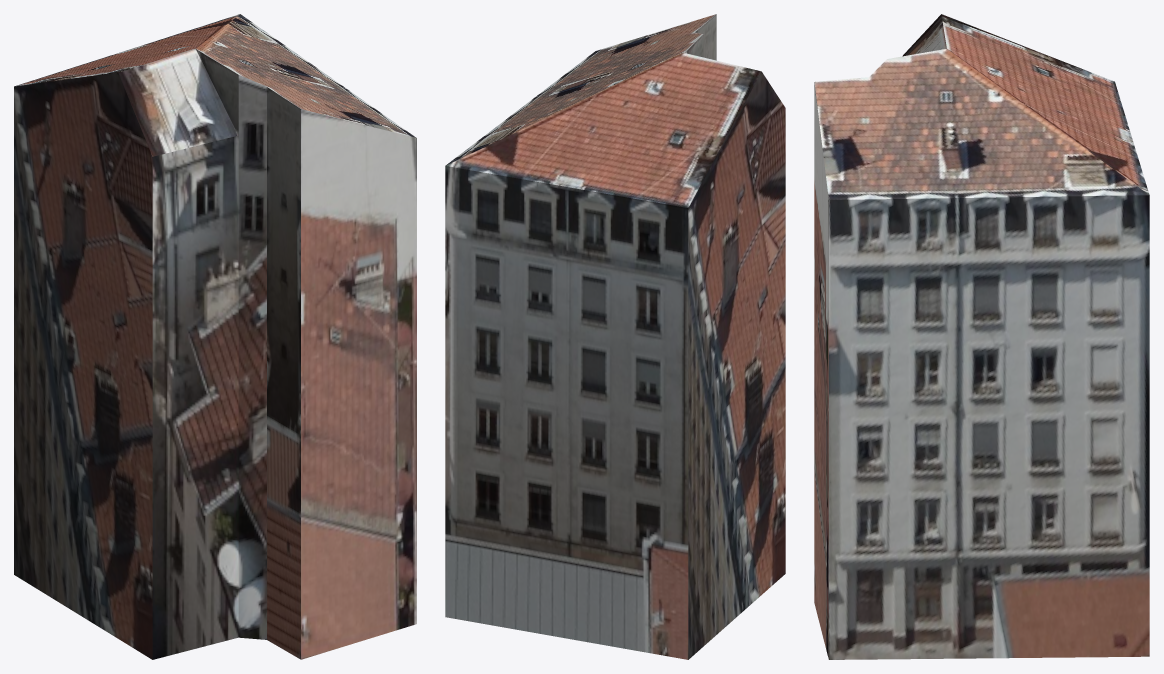
3 views of the same model, side by side, from view 1: azimuth 30°, elevation 25°; view 2: azimuth 150°, elevation 25°; view 3: azimuth 270°, elevation 25° (orthographic). The views are drawn at different scales.
Visible parts, largest first — view 1: Z_UP; view 2: Z_UP; view 3: Z_UP.
Boxes of the visible parts, x1,y1,x2,y2 form: Z_UP: (14,14,416,659); Z_UP: (445,14,785,659); Z_UP: (814,14,1149,659).
Size of the model in its own units: 12.29 by 26.52 by 14.98.
2 materials, 1 textured.
